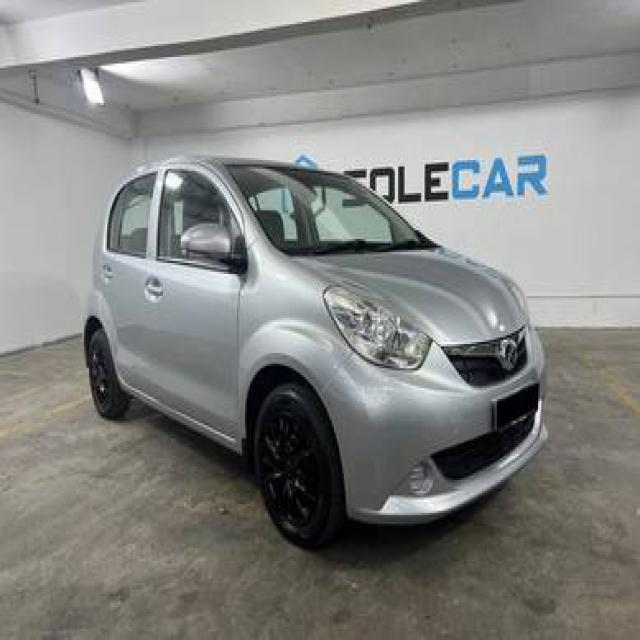PeroduaMyvi: (80, 151, 550, 550)
